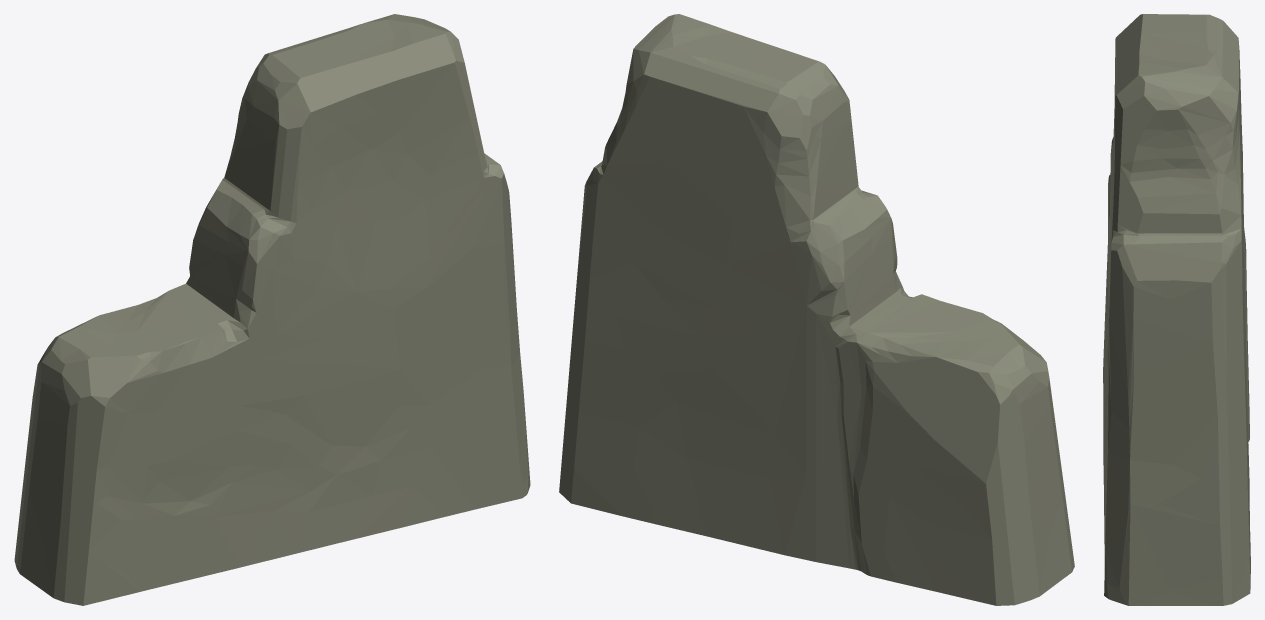
Rendered from Cliff_Desert_02.FBX.
3 renders of one model, left to right at view 1: azimuth 30°, elevation 25°; view 2: azimuth 150°, elevation 25°; view 3: azimuth 270°, elevation 25°, orthographic. The views are drawn at different scales.
Visible parts, largest first — view 1: Cliff_Desert_02; view 2: Cliff_Desert_02; view 3: Cliff_Desert_02.
Part boxes in pixels (bbox=[...]): Cliff_Desert_02: bbox=[14, 14, 530, 605]; Cliff_Desert_02: bbox=[559, 14, 1074, 605]; Cliff_Desert_02: bbox=[1103, 14, 1250, 605].
Bounding box in the file's own units: 49.34 × 46.45 × 12.72.
Materials: 1 (1 with a texture image).
